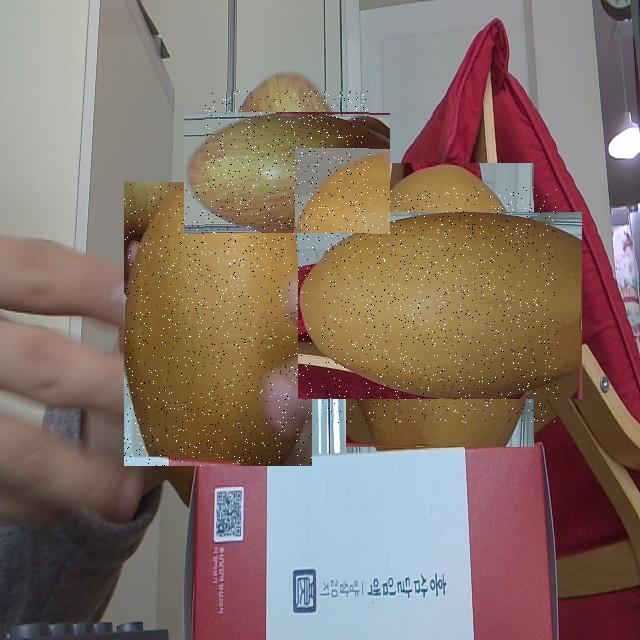apple: (206, 92, 370, 256)
pear: (322, 187, 558, 423), (124, 182, 312, 466)
